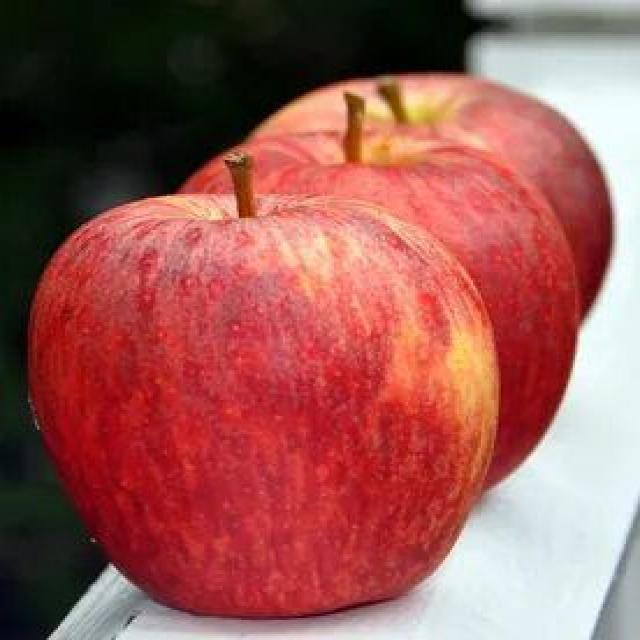Fresh Apple: (67, 192, 493, 608)
